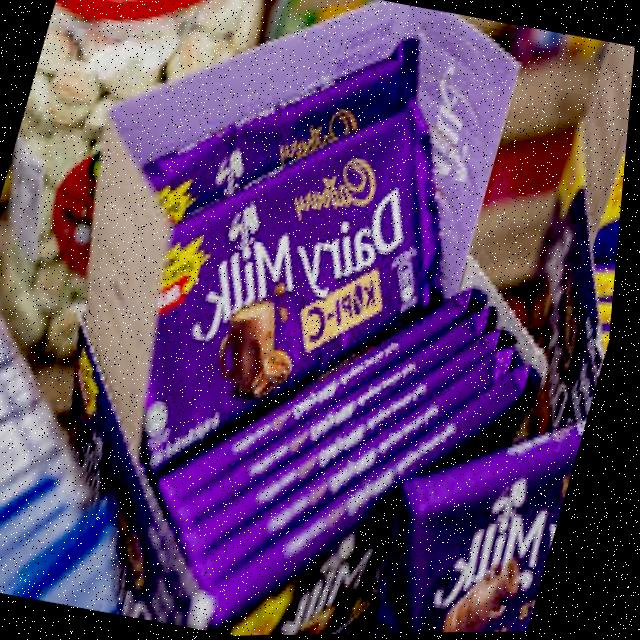cadbury: (100, 59, 504, 532)
